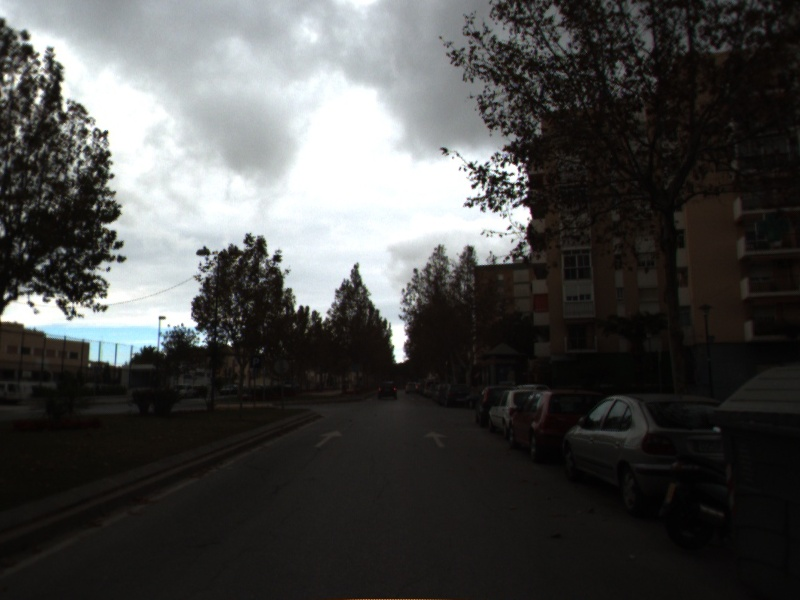STRAIGHT: (311, 428, 346, 450), (421, 428, 450, 450)
